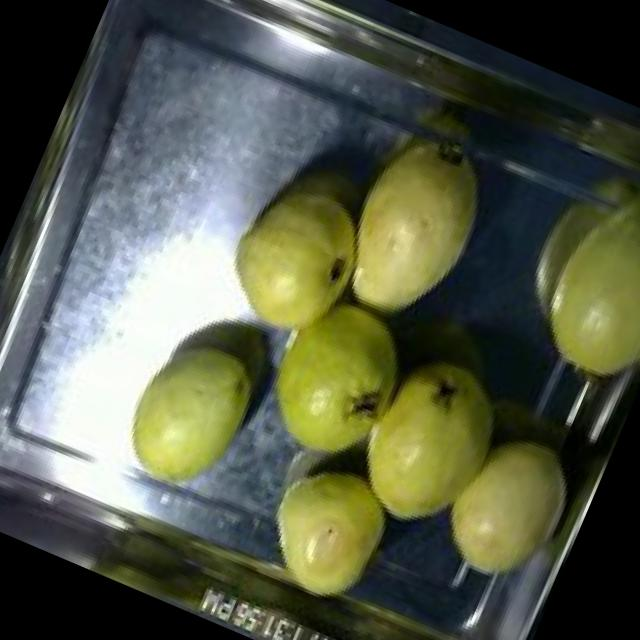Fruit: (188, 130, 415, 376), (298, 105, 512, 348), (234, 260, 428, 490), (485, 127, 640, 409), (338, 334, 532, 556), (94, 303, 279, 516), (414, 405, 602, 610), (235, 434, 419, 623)
